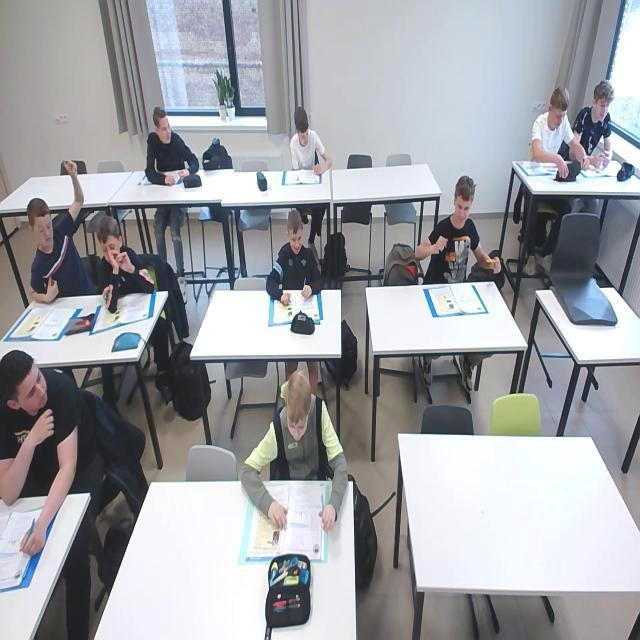Looking away: (0, 350, 54, 419), (452, 175, 476, 227), (545, 88, 570, 132), (590, 81, 614, 122), (154, 109, 173, 145)
Raising hand: (29, 153, 84, 304)
Reading-writing: (242, 372, 350, 534), (90, 215, 156, 323), (266, 208, 326, 322), (285, 106, 333, 184)
